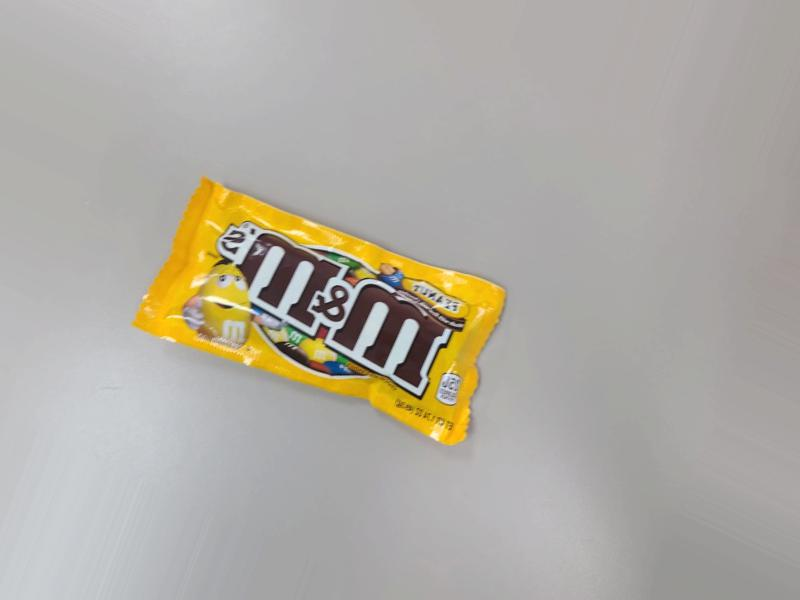m&m: (165, 160, 531, 438)
